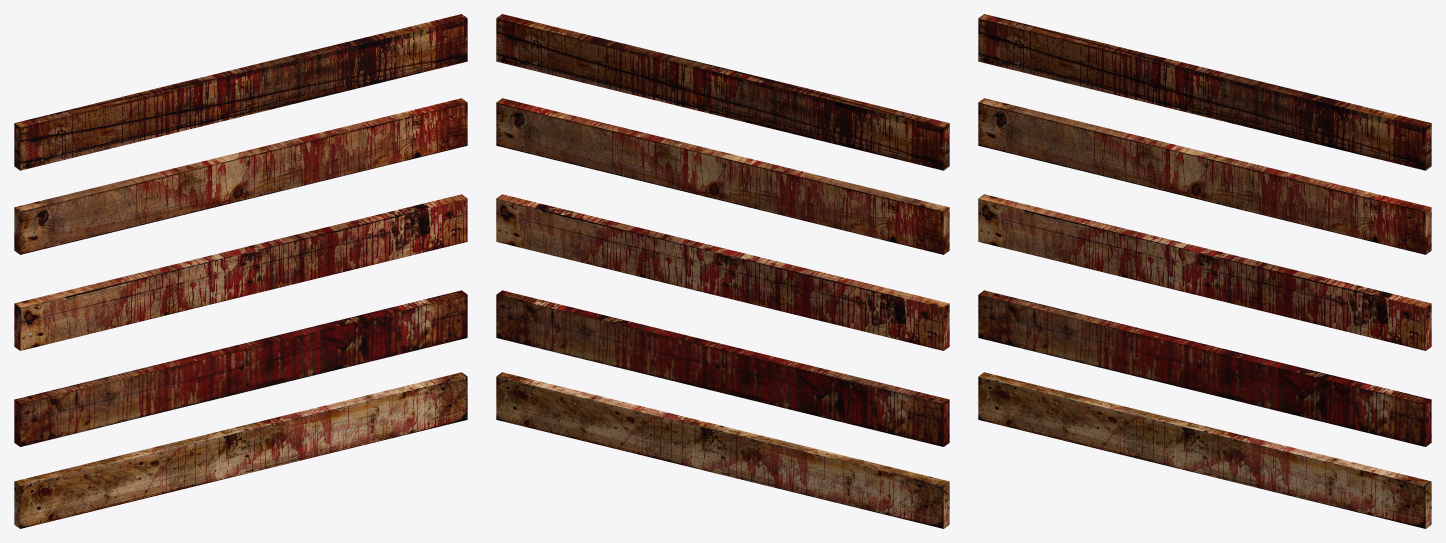
Rendered from Wooden Planks.FBX.
The picture shows the model from 3 angles, left to right: view 1: azimuth 30°, elevation 25°; view 2: azimuth 150°, elevation 25°; view 3: azimuth 330°, elevation 25°; orthographic projection.
Parts seen in each view (by area): view 1: Plank, Plank004, Plank002, Plank003, Plank001; view 2: Plank, Plank004, Plank002, Plank003, Plank001; view 3: Plank, Plank004, Plank002, Plank003, Plank001.
Part boxes in pixels (x1=…): Plank: x1=14, y1=372, x2=467, y2=528; Plank004: x1=14, y1=14, x2=467, y2=170; Plank002: x1=14, y1=194, x2=467, y2=350; Plank003: x1=14, y1=98, x2=467, y2=254; Plank001: x1=14, y1=290, x2=467, y2=446; Plank: x1=496, y1=372, x2=949, y2=528; Plank004: x1=496, y1=14, x2=949, y2=170; Plank002: x1=496, y1=194, x2=949, y2=350; Plank003: x1=496, y1=98, x2=949, y2=254; Plank001: x1=496, y1=290, x2=949, y2=446; Plank: x1=978, y1=372, x2=1431, y2=528; Plank004: x1=978, y1=14, x2=1431, y2=170; Plank002: x1=978, y1=194, x2=1431, y2=350; Plank003: x1=978, y1=98, x2=1431, y2=254; Plank001: x1=978, y1=290, x2=1431, y2=446.
Bounding box in the file's own units: 25038 × 21453 × 589.
